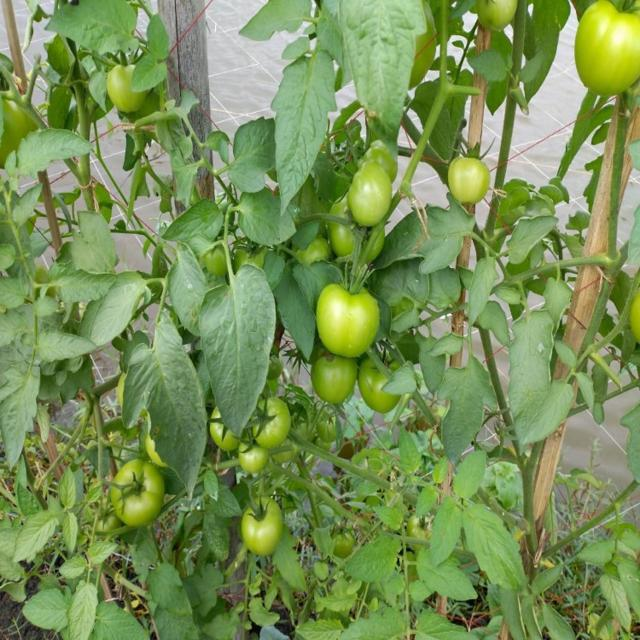tomato: (578, 1, 640, 94), (318, 285, 384, 354), (112, 465, 169, 527), (444, 158, 496, 211), (351, 168, 395, 229), (242, 499, 288, 553), (359, 356, 398, 415), (108, 58, 145, 119), (314, 356, 358, 407), (1, 96, 38, 147), (257, 400, 288, 450), (479, 1, 522, 33), (211, 408, 239, 453), (203, 249, 234, 283), (362, 140, 398, 166), (243, 436, 268, 473), (328, 222, 357, 253), (230, 245, 269, 268), (334, 528, 362, 559), (300, 245, 335, 263), (631, 299, 640, 341)
